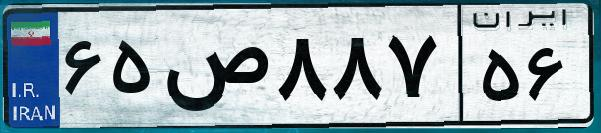5: (475, 38, 525, 113), (110, 28, 158, 98)
6: (57, 26, 110, 100), (525, 38, 570, 115)
7: (385, 28, 445, 110)
8: (270, 28, 330, 110), (330, 28, 385, 110)
ص: (158, 20, 270, 120)
